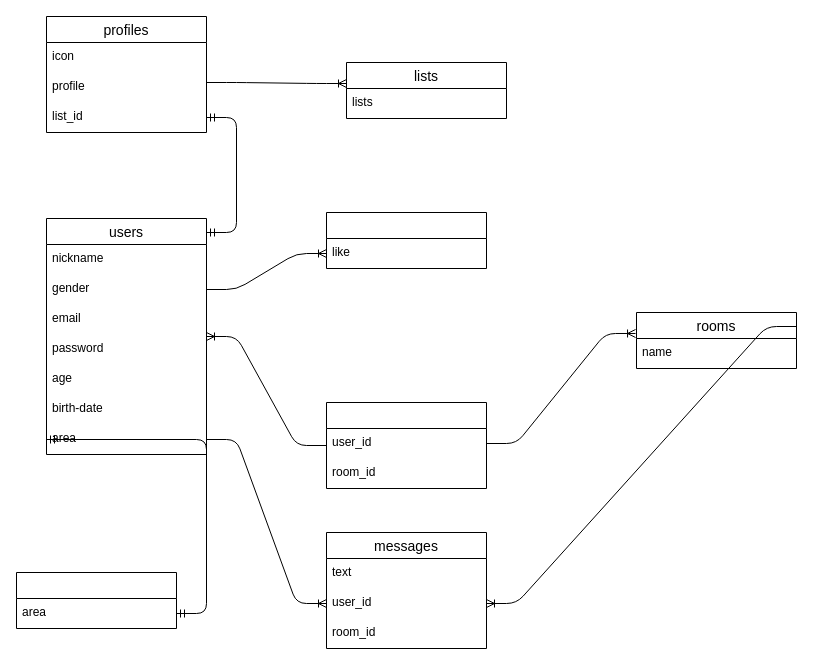
The diagram is 813 pixels wide and 665 high, and some of its shapes have lost their labels. The shapes that lost their labels are listed below. From the top down, each one's box as (x1, y1, x2, y2) in pixels, then its label:
(326, 212, 486, 268): likes
(326, 402, 486, 488): uesrs_rooms
(16, 572, 176, 628): area(Active_hash)
